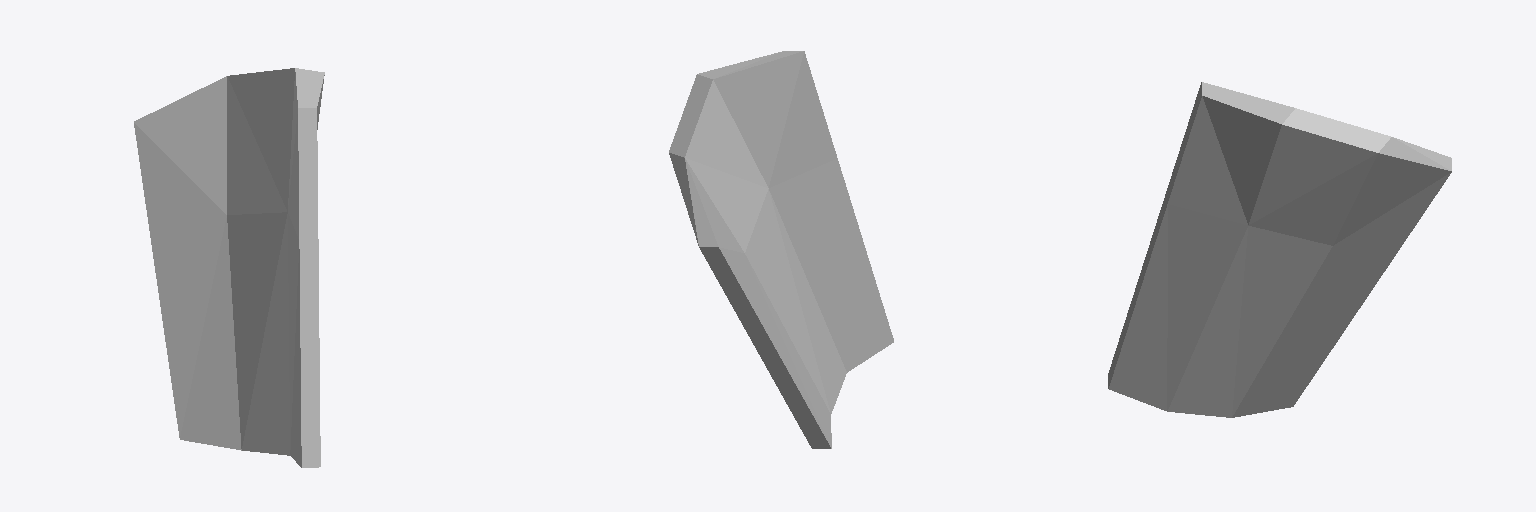
File: Guard__ncl1_29.obj
The picture shows the model from 3 angles: view 1: azimuth 30°, elevation 25°; view 2: azimuth 150°, elevation 25°; view 3: azimuth 270°, elevation 25°; orthographic projection.
Parts seen in each view (by area): view 1: Guard__ncl1_29.003; view 2: Guard__ncl1_29.003; view 3: Guard__ncl1_29.003.
Part boxes in pixels (x1,y1,x2,y2): Guard__ncl1_29.003: (134,68,324,467); Guard__ncl1_29.003: (669,51,893,448); Guard__ncl1_29.003: (1108,82,1451,417).
Size of the model in its own units: 0.1164 by 0.2791 by 0.2481.